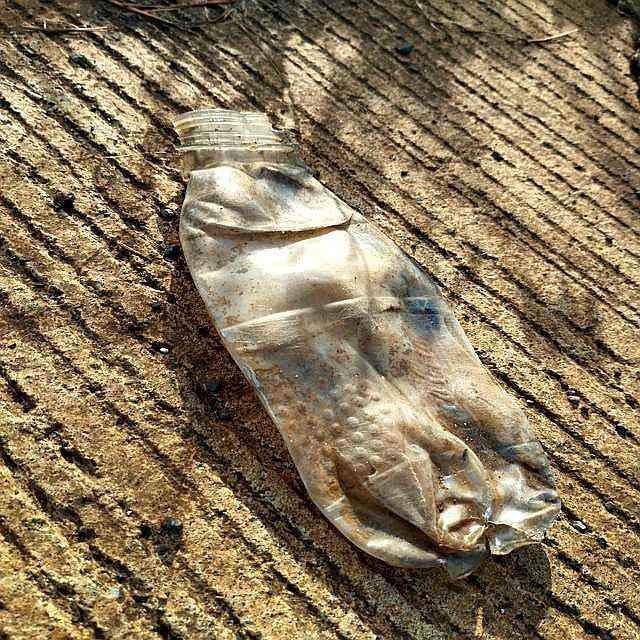Non-biodegradable: (105, 95, 599, 619)
